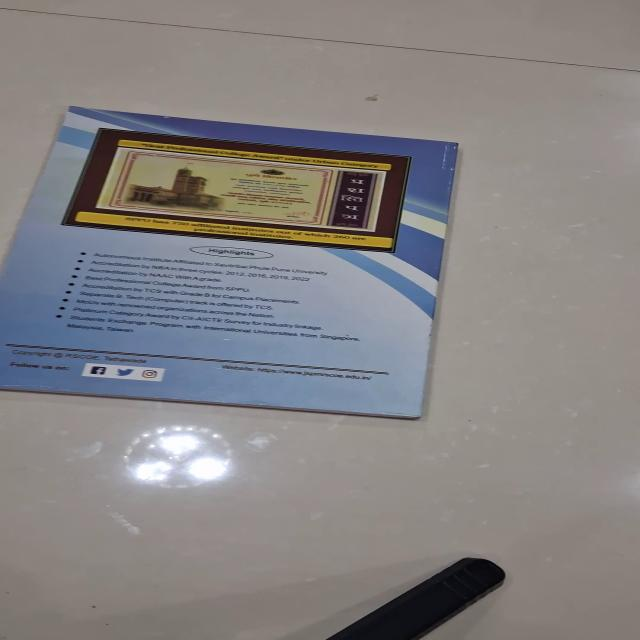paper: (1, 105, 459, 419)
